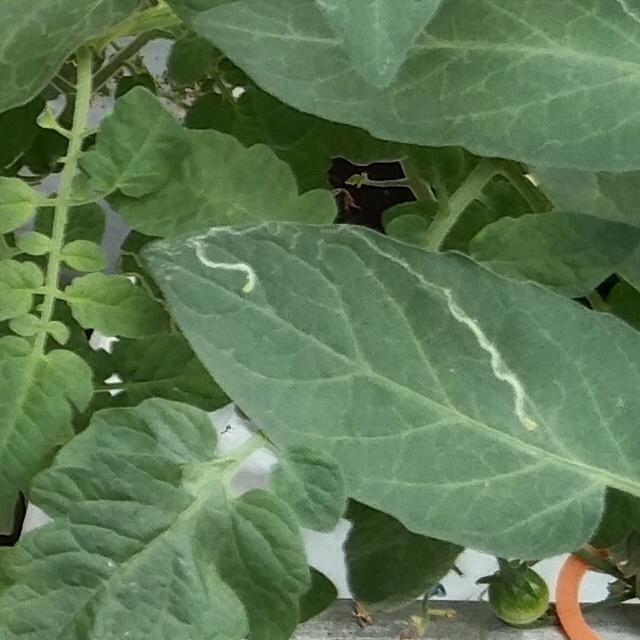Tomato target spot leaf: (135, 218, 640, 560)
